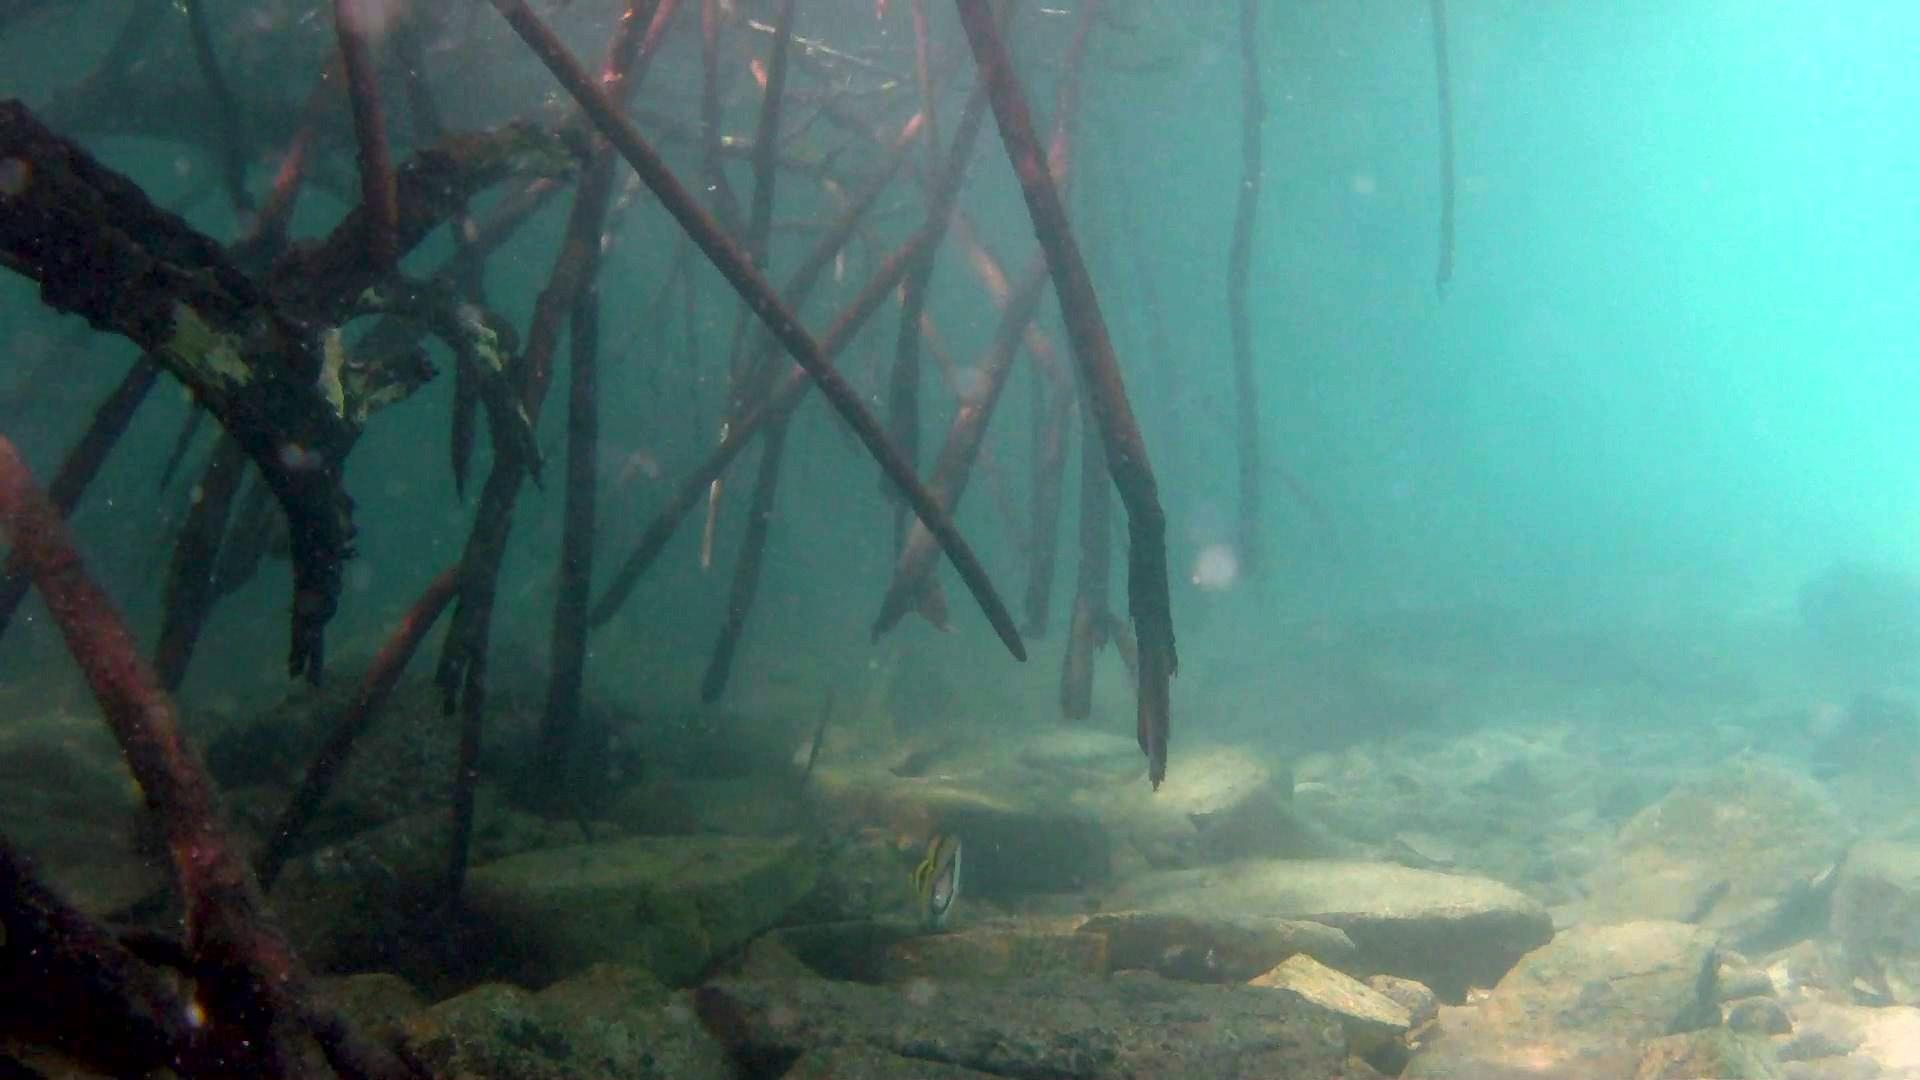chaetodon vagabundus: (910, 824, 971, 938)
